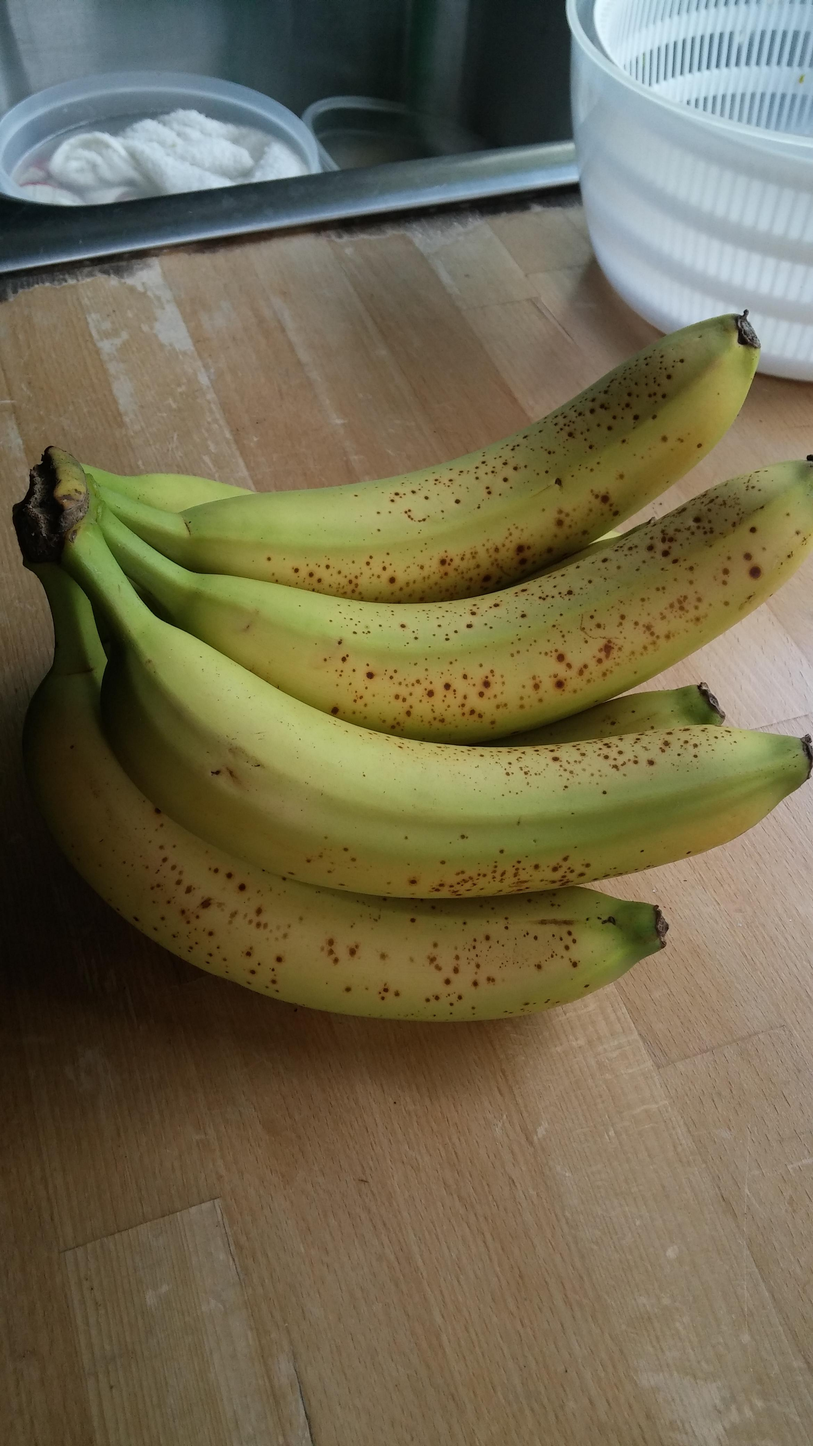banana: (18, 313, 806, 1051)
